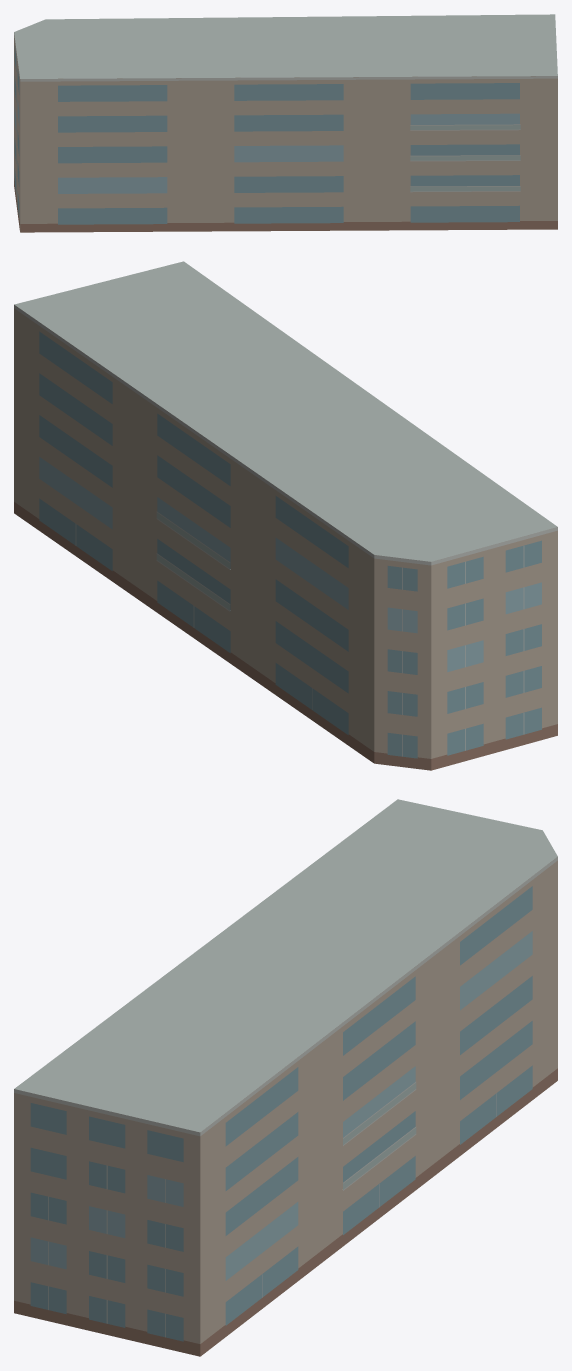
Rendered from survey-upis-32878405.glb.
3 renders of one model, top to bottom at view 1: azimuth 30°, elevation 25°; view 2: azimuth 150°, elevation 25°; view 3: azimuth 270°, elevation 25°, orthographic. The views are drawn at different scales.
Visible parts, largest first — view 1: survey-upis-32878405.tmp; view 2: survey-upis-32878405.tmp; view 3: survey-upis-32878405.tmp.
Boxes of the visible parts, x1,y1,x2,y2 form: survey-upis-32878405.tmp: (14, 14, 557, 232); survey-upis-32878405.tmp: (14, 261, 557, 770); survey-upis-32878405.tmp: (14, 799, 557, 1356).
Size of the model in its own units: 44.31 by 13.9 by 30.56.
